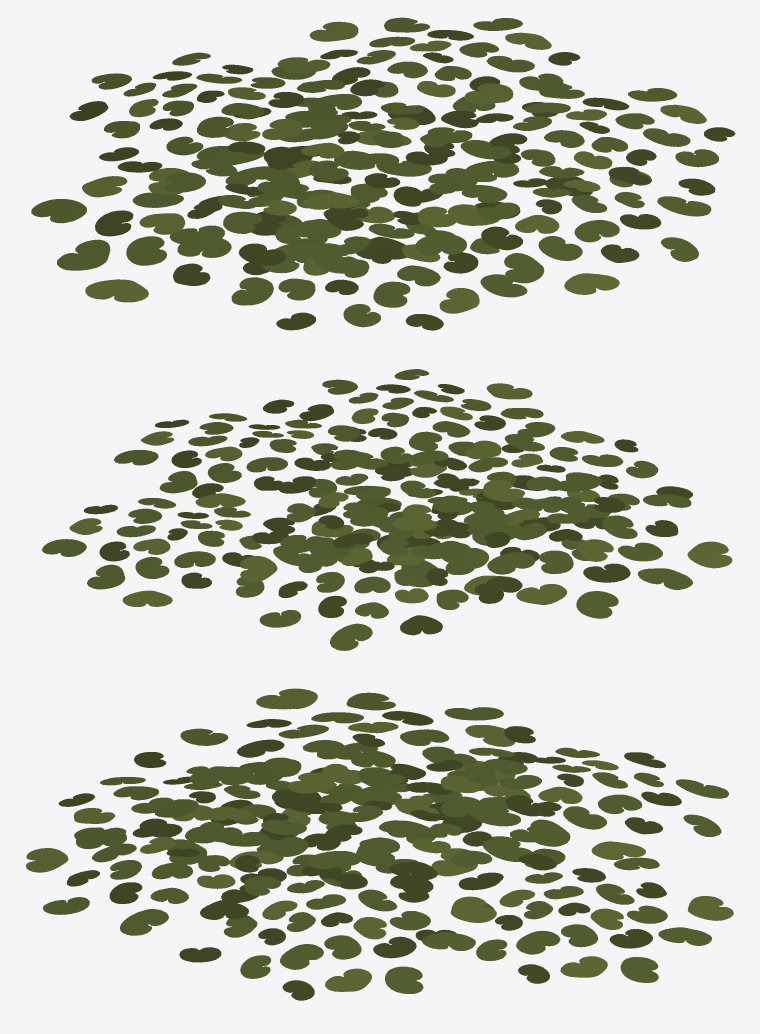
File: Asarabacca_3.fbx
3 views of the same model, one above another, from view 1: azimuth 30°, elevation 25°; view 2: azimuth 150°, elevation 25°; view 3: azimuth 270°, elevation 25° (orthographic). The views are drawn at different scales.
Parts seen in each view (by area): view 1: Asarabacca_3; view 2: Asarabacca_3; view 3: Asarabacca_3.
Boxes of the visible parts, <box> form: Asarabacca_3: <box>31,17,735,330</box>; Asarabacca_3: <box>42,369,732,650</box>; Asarabacca_3: <box>26,688,733,1000</box>.
Size of the model in its own units: 164 by 11.11 by 150.
Materials: 1 (1 with a texture image).
